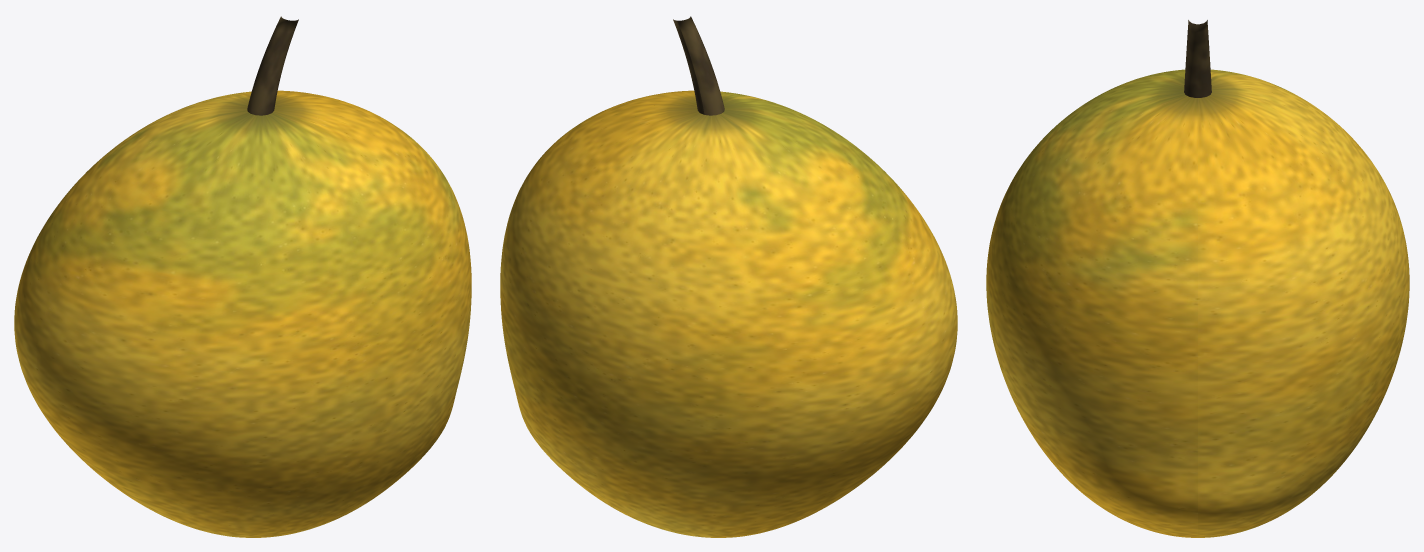
File: mangue-lucie.glb
3 views of the same model, side by side, from view 1: azimuth 30°, elevation 25°; view 2: azimuth 150°, elevation 25°; view 3: azimuth 270°, elevation 25° (orthographic). The views are drawn at different scales.
Visible parts, largest first — view 1: entier_peau, moitie_A_peau, moitie_B_peau, entier_extra0; view 2: entier_peau, moitie_B_peau, moitie_A_peau, entier_extra0; view 3: entier_peau, moitie_A_peau, moitie_B_peau, entier_extra0.
Part boxes in pixels (left/top/right/bottom): entier_peau: left=14, top=90, right=471, bottom=537; moitie_A_peau: left=40, top=104, right=471, bottom=537; moitie_B_peau: left=14, top=90, right=380, bottom=467; entier_extra0: left=247, top=16, right=298, bottom=115; entier_peau: left=500, top=90, right=957, bottom=537; moitie_B_peau: left=500, top=103, right=931, bottom=537; moitie_A_peau: left=586, top=90, right=957, bottom=466; entier_extra0: left=673, top=16, right=724, bottom=115; entier_peau: left=986, top=69, right=1409, bottom=537; moitie_A_peau: left=986, top=69, right=1196, bottom=537; moitie_B_peau: left=1199, top=69, right=1409, bottom=537; entier_extra0: left=1184, top=20, right=1211, bottom=97.
Bounding box in the file's own units: 0.0927 × 0.1086 × 0.0806.
3 materials, 3 textured.
